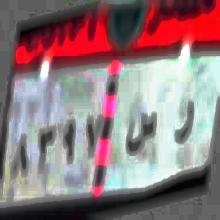3: (34, 117, 56, 175)
7: (86, 107, 102, 158)
8: (11, 130, 29, 185)
9: (60, 112, 77, 170)
raa: (171, 93, 195, 150)
seen: (126, 107, 157, 158)
